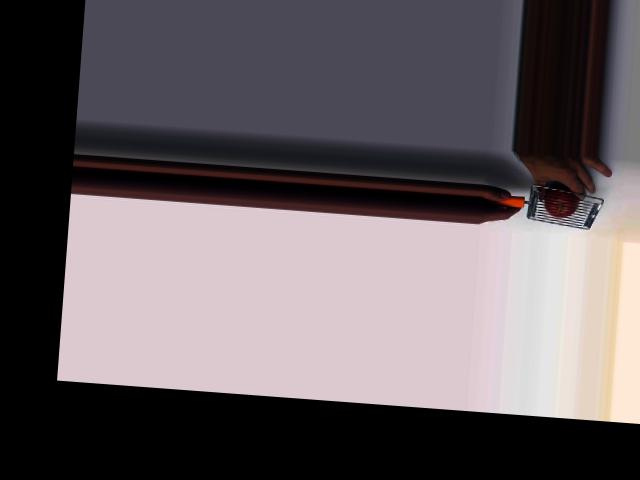tomato: (542, 184, 578, 218)
